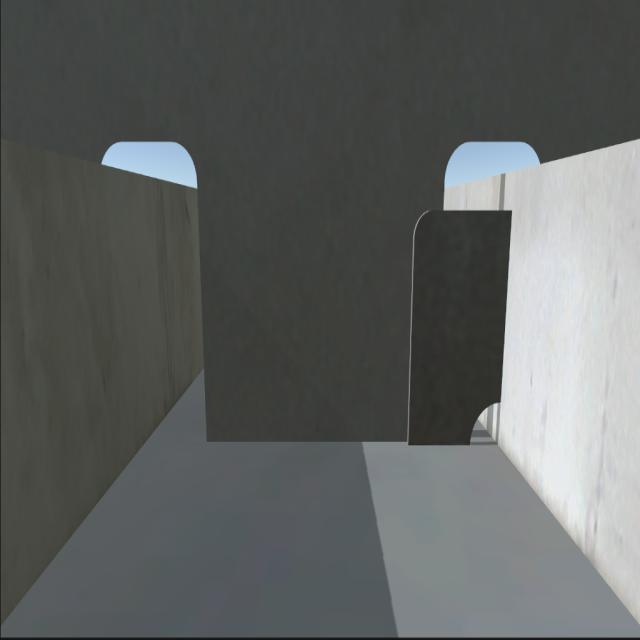fillet_hole: (461, 394, 502, 448)
fillet_yong_jeop_jang: (206, 428, 470, 453)
longi_yong_jeop_jang: (496, 209, 518, 404)
plate_CP05: (411, 189, 512, 438)
